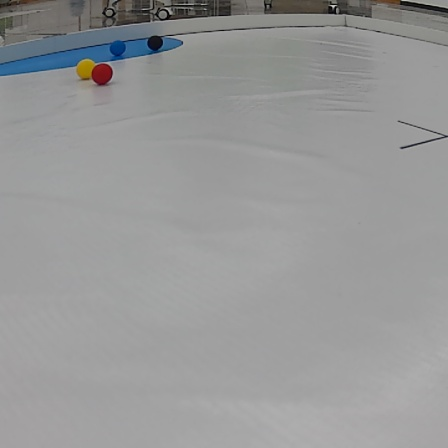black: (148, 36, 162, 50)
blue: (110, 40, 125, 54)
blue_base: (0, 37, 184, 76)
red: (93, 66, 114, 83)
yellow: (78, 60, 93, 75)
